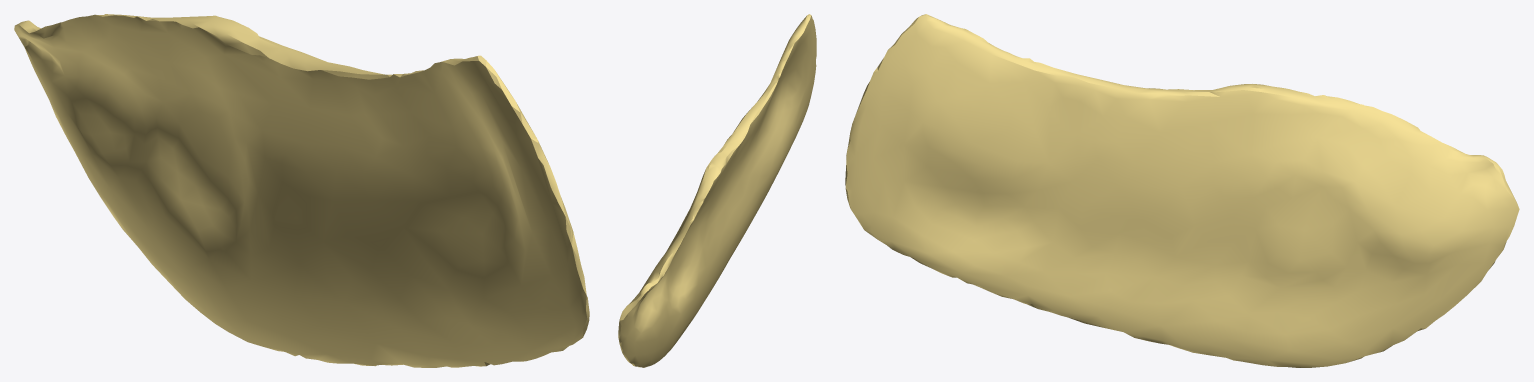
Rendered from fma84354-r_fj7499m.glb.
3 renders of one model, left to right at view 1: azimuth 30°, elevation 25°; view 2: azimuth 150°, elevation 25°; view 3: azimuth 270°, elevation 25°, orthographic. The views are drawn at different scales.
Parts seen in each view (by area): view 1: FMA84354-R_FJ7499M; view 2: FMA84354-R_FJ7499M; view 3: FMA84354-R_FJ7499M.
Part boxes in pixels (x1=…): FMA84354-R_FJ7499M: x1=14, y1=14, x2=589, y2=367; FMA84354-R_FJ7499M: x1=618, y1=14, x2=816, y2=367; FMA84354-R_FJ7499M: x1=845, y1=14, x2=1519, y2=367.
Bounding box in the file's own units: 0.00245 × 0.00771 × 0.0136.
